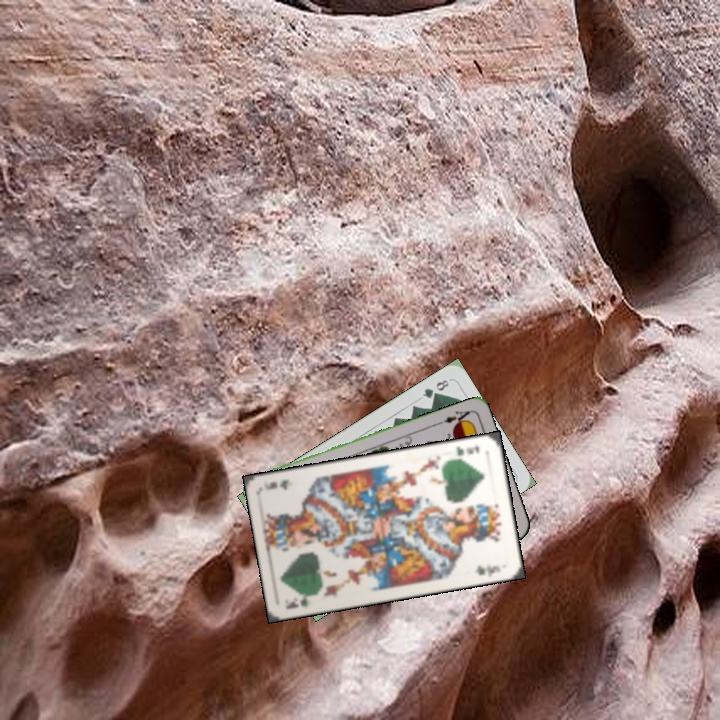EA: (440, 406, 473, 428)
G8: (418, 375, 452, 401)
GK: (282, 592, 308, 612), (452, 441, 482, 458)
